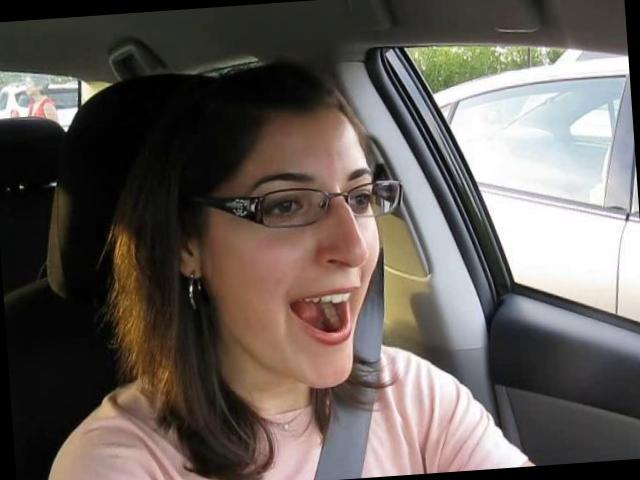eye_open: (258, 188, 314, 225), (347, 188, 374, 213)
face: (200, 140, 394, 398)
mouth_open: (280, 278, 362, 350)
